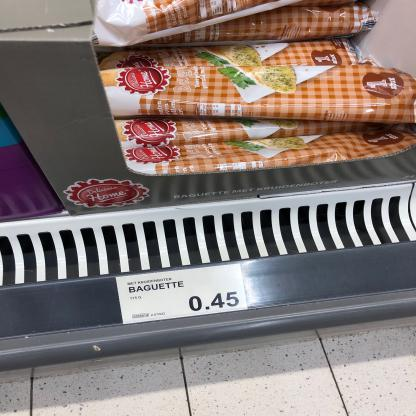prtg: (117, 264, 250, 325)
